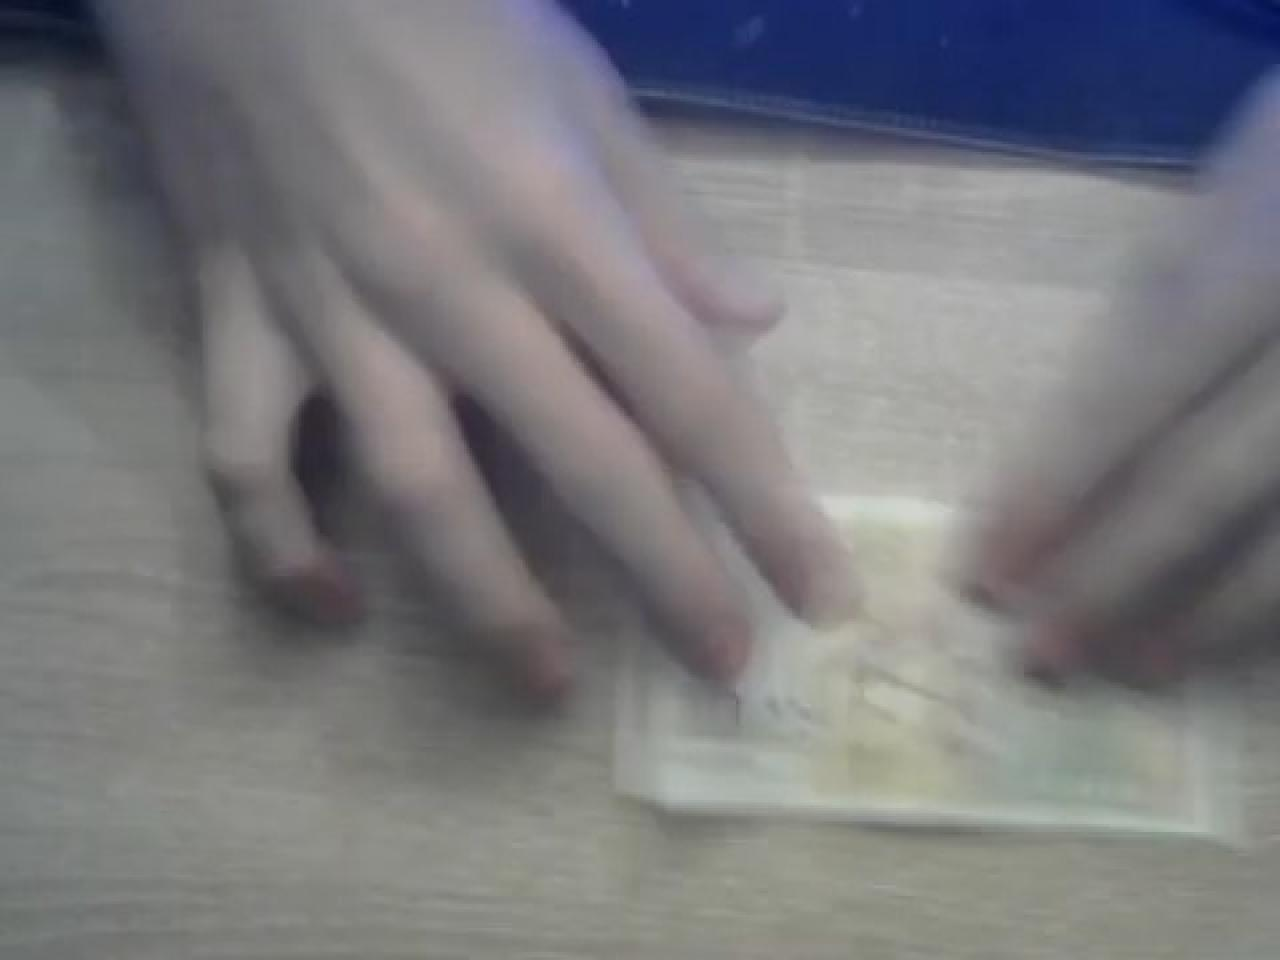10leva: (611, 525, 1280, 851)
